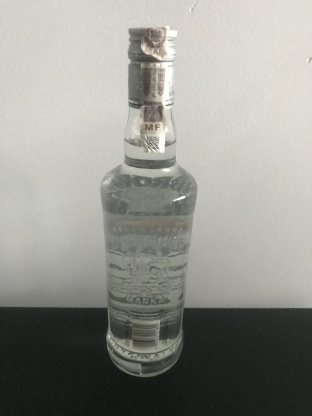nakretka: (125, 23, 178, 110)
